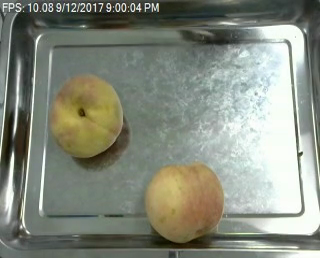Peach: (146, 161, 224, 244), (49, 73, 124, 157)
